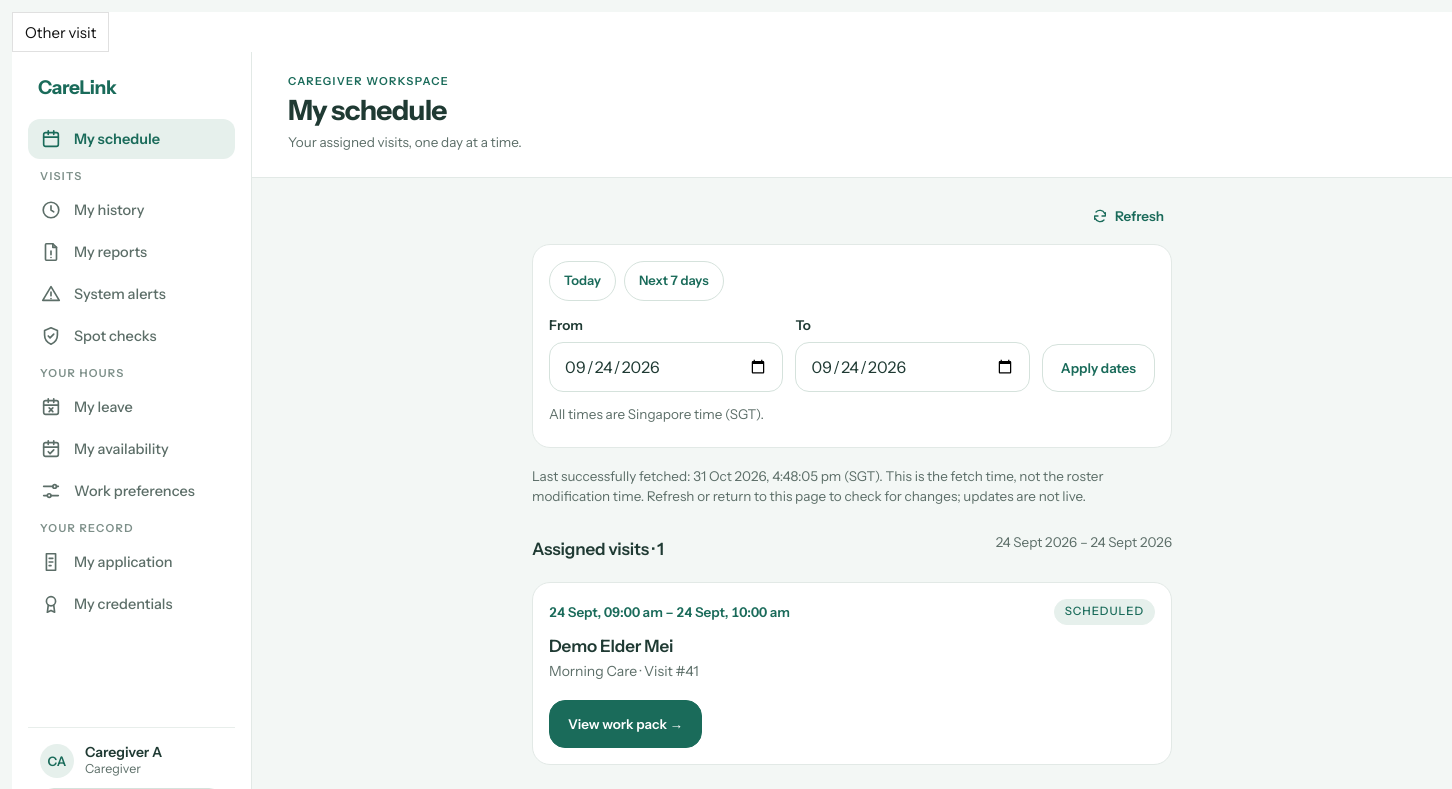
Test case: caregiver read workflow › rejects a reversed or excessively long date range without a new query
The width and height of the screenshot is (1452, 789).
Expected: the heading "Demo Elder Mei" is shown, [549,636,673,656]
Step 1. Type "2026-09-01" into the date field labelled "To" → x=913, y=367, box [795,342,1030,392]
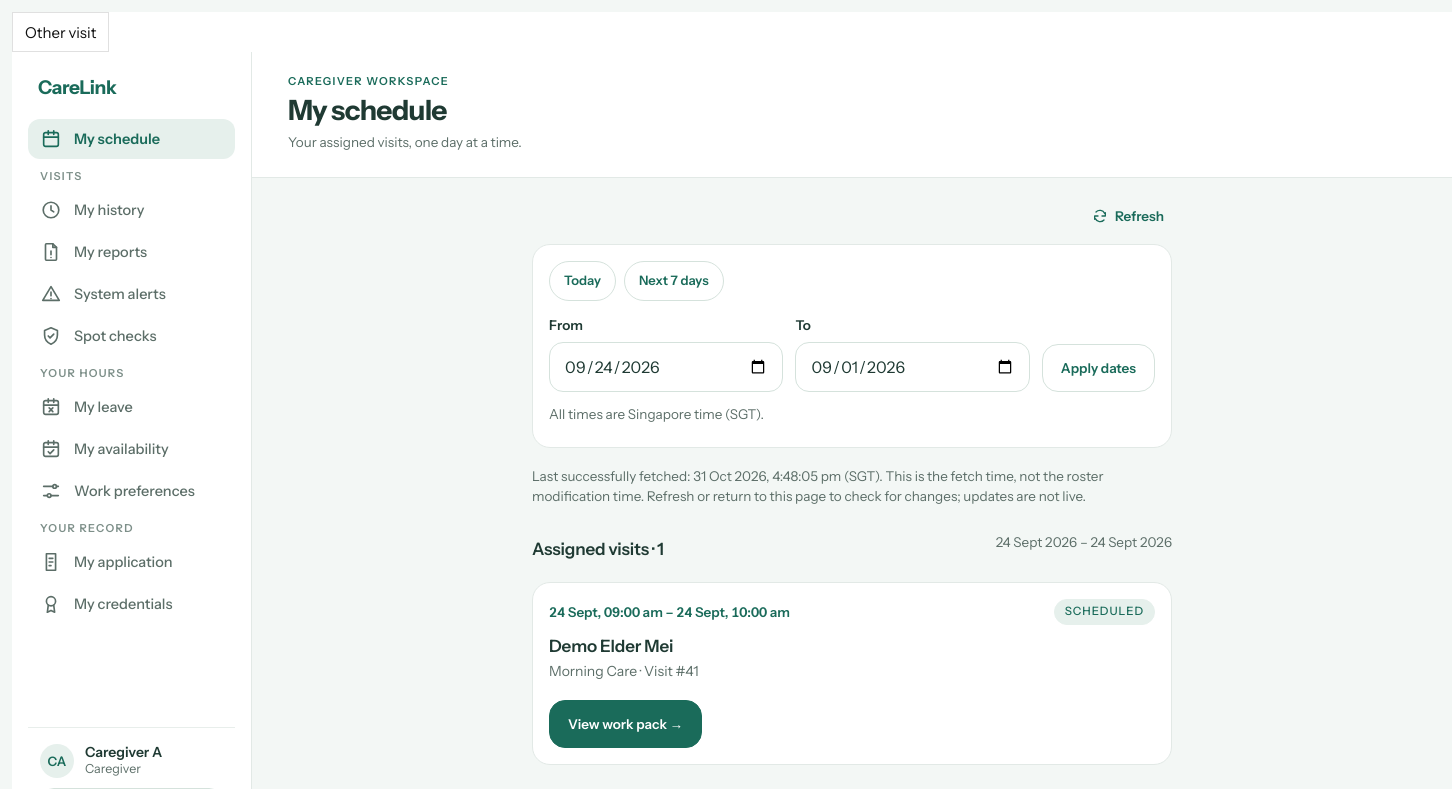
Step 2. Click the button "Apply dates" → x=1098, y=368, box [1042,344,1155,392]
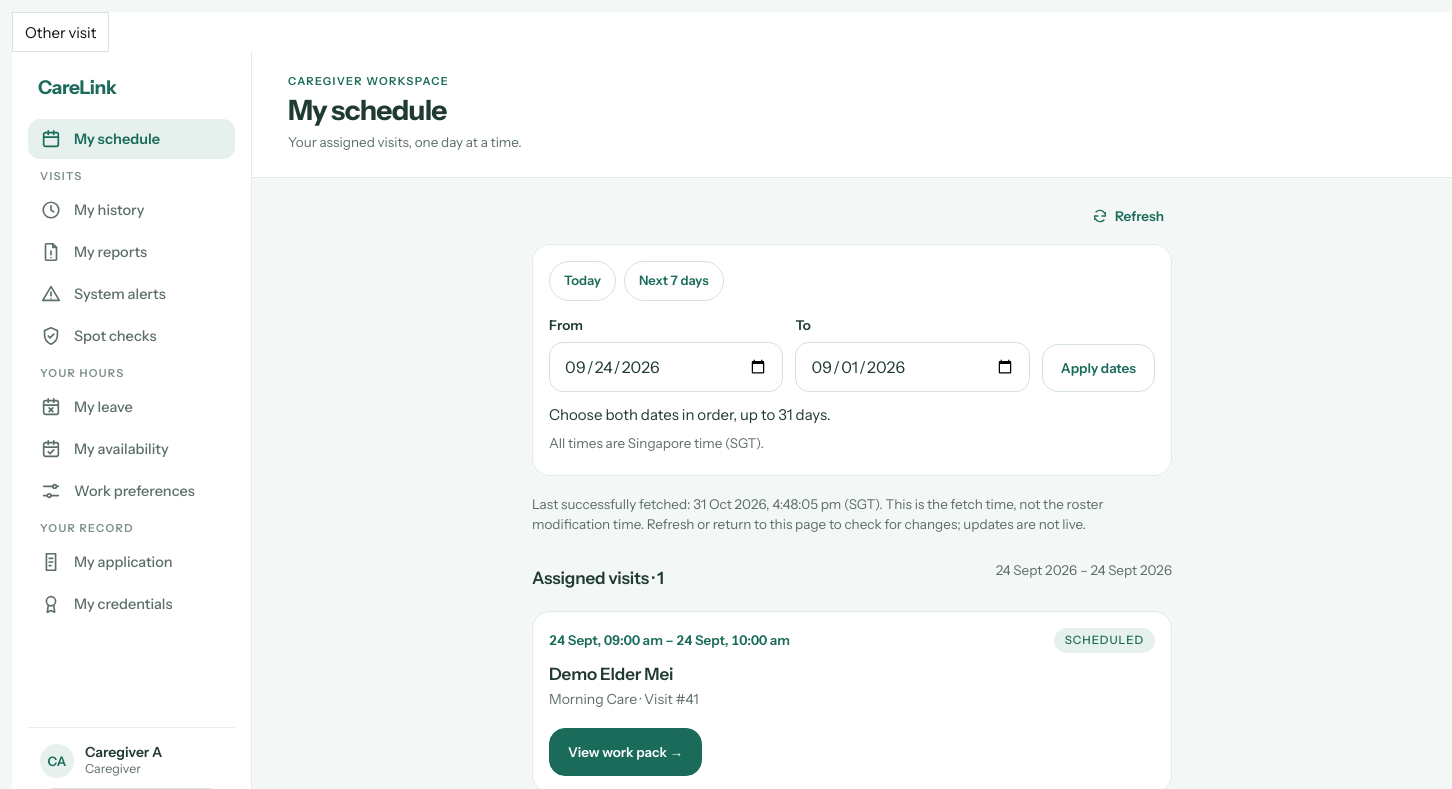
Result: the message shows "Choose both dates" at [549,405,830,424]
